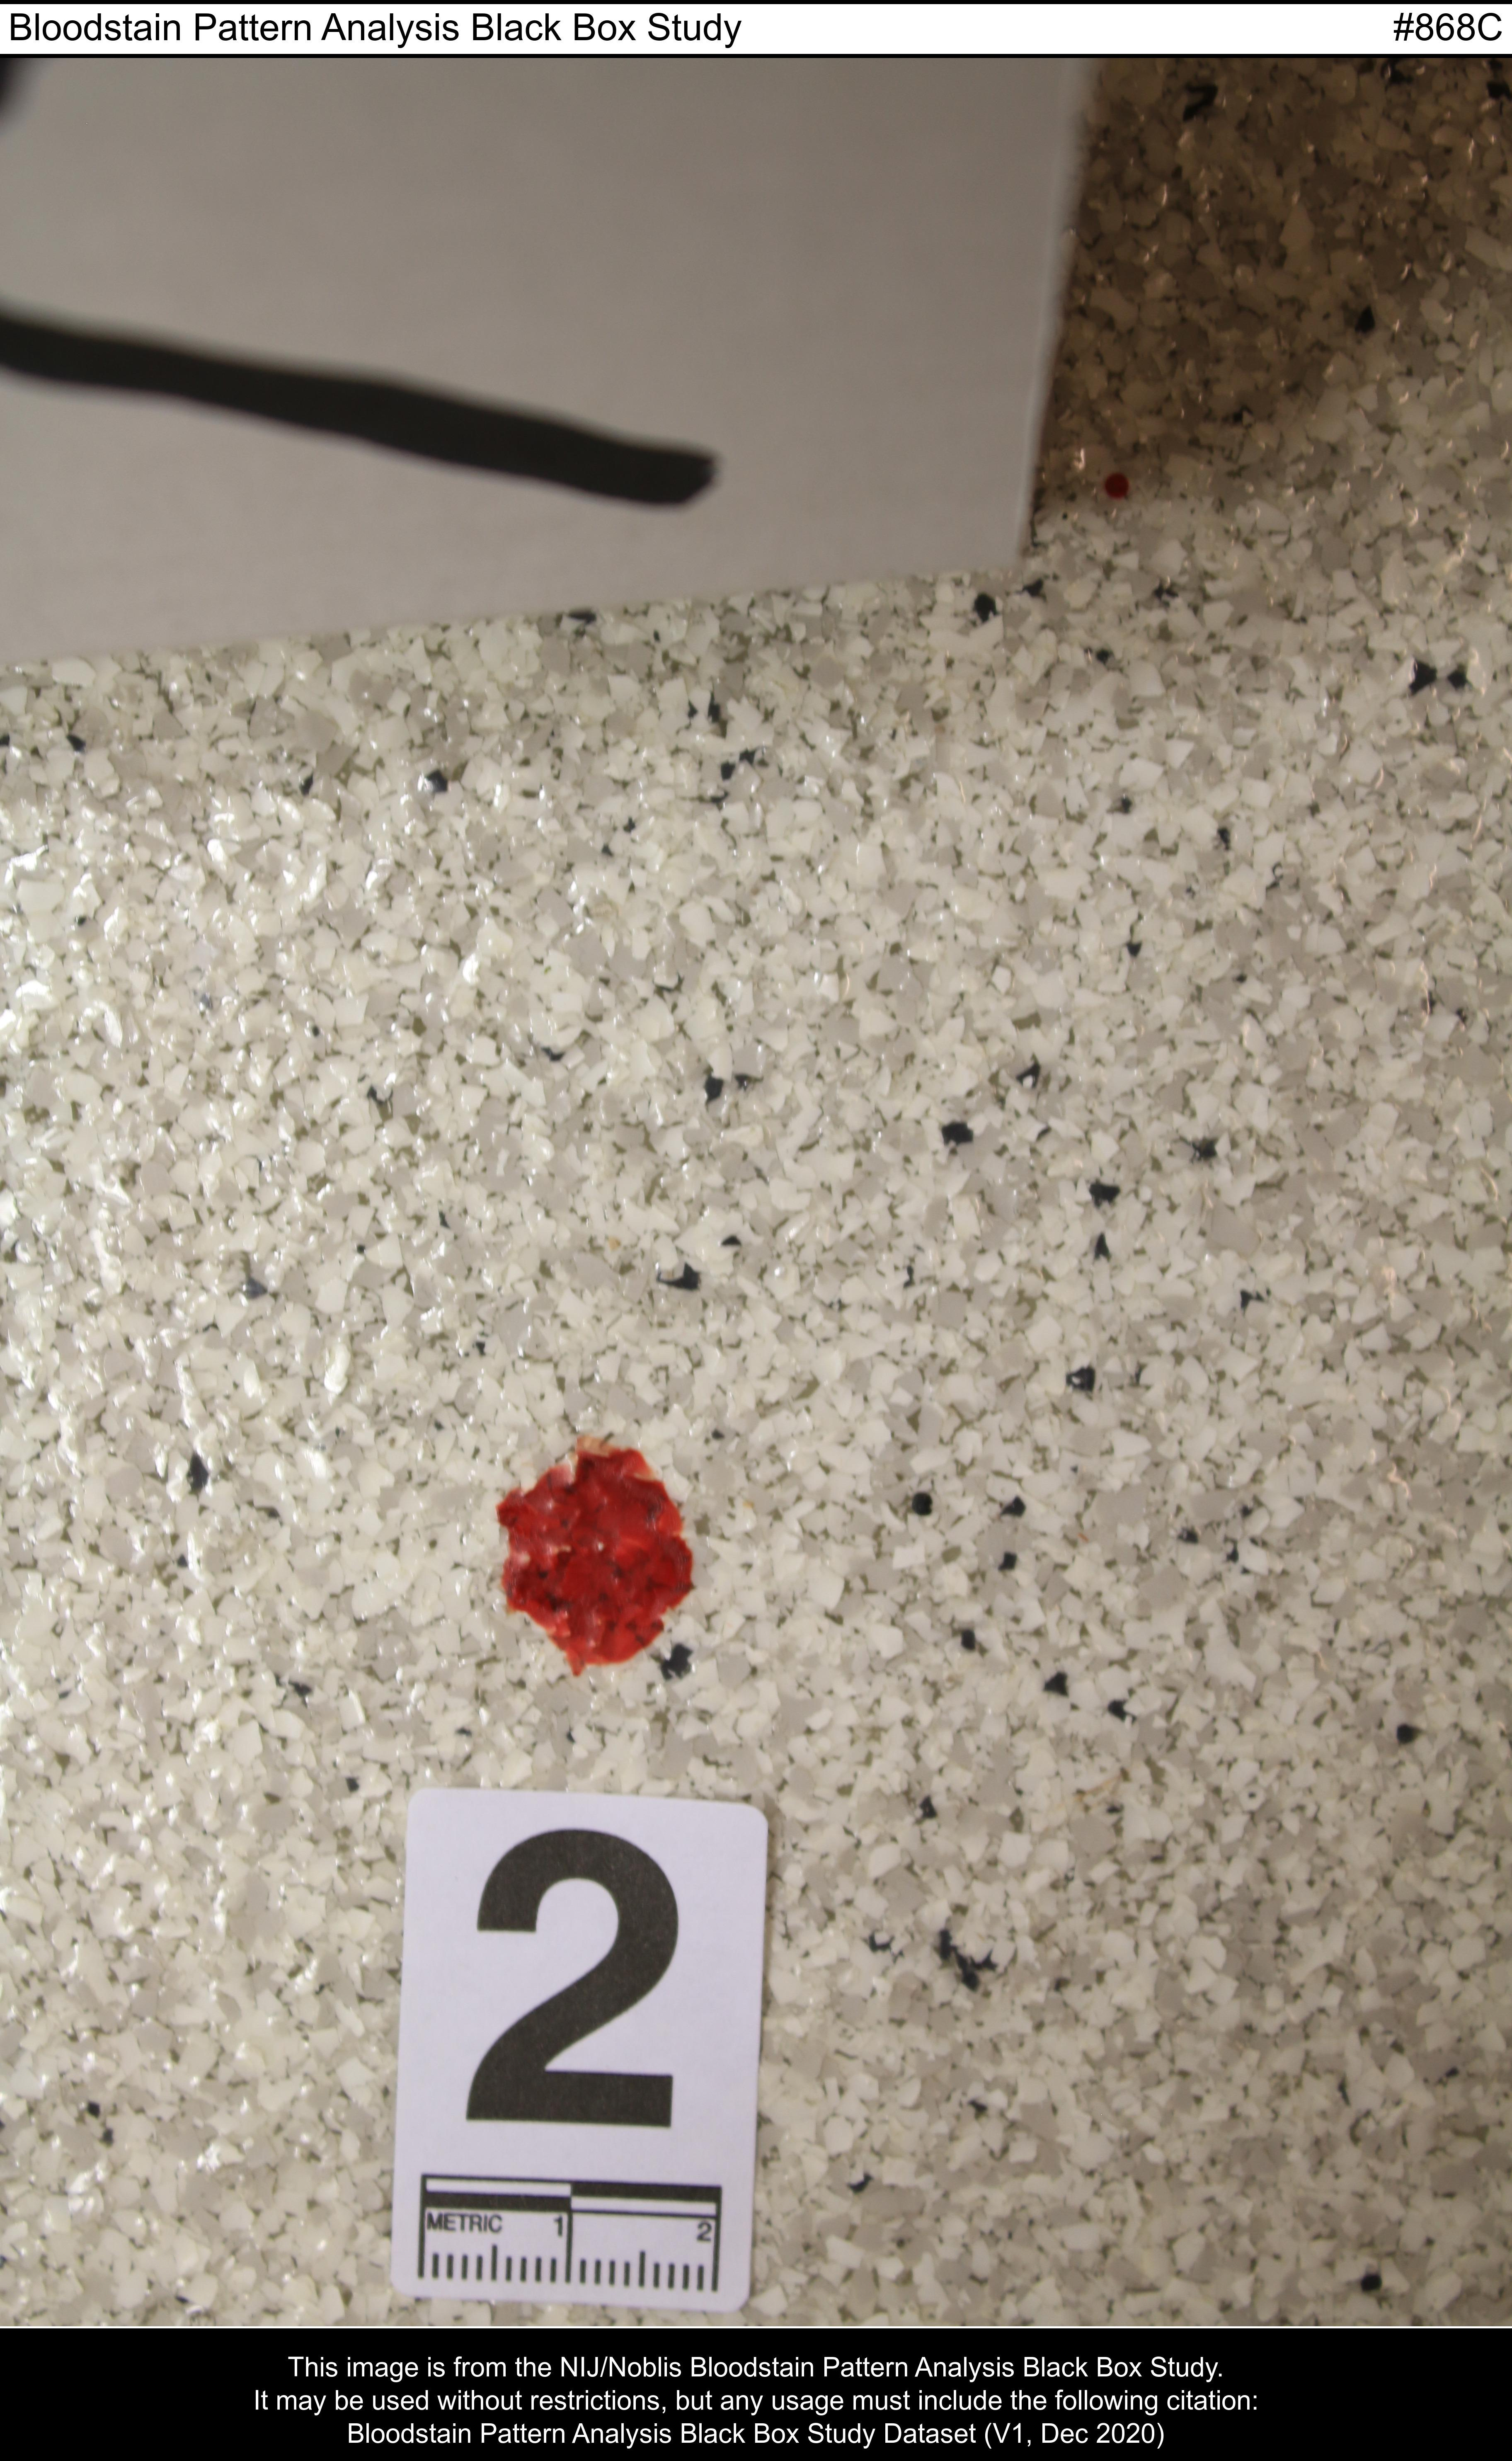Passive: (378, 1357, 879, 1730)
